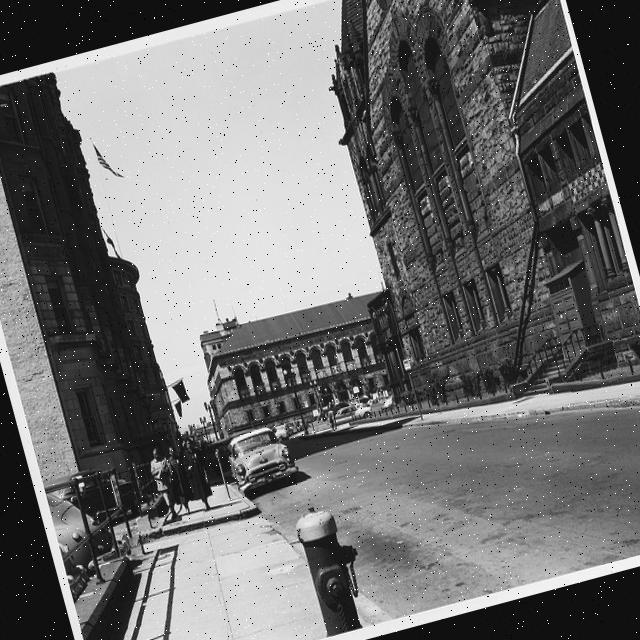fire_hydrant: (284, 491, 382, 640)
